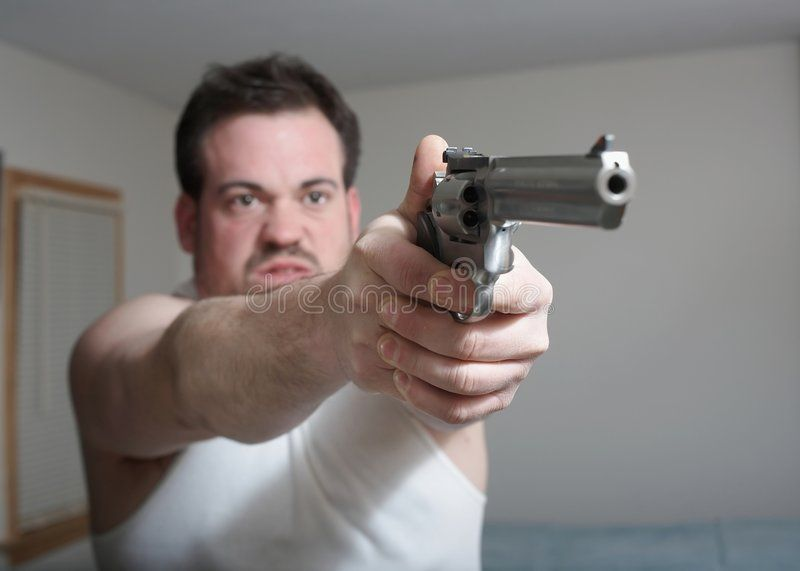gun: (407, 131, 644, 328)
person: (62, 50, 553, 571)
